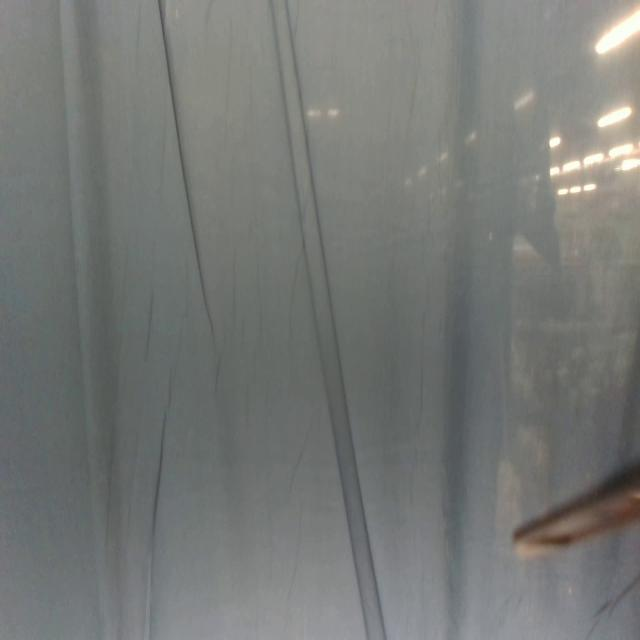crease: (271, 0, 386, 640), (156, 0, 213, 340), (146, 411, 167, 640)
